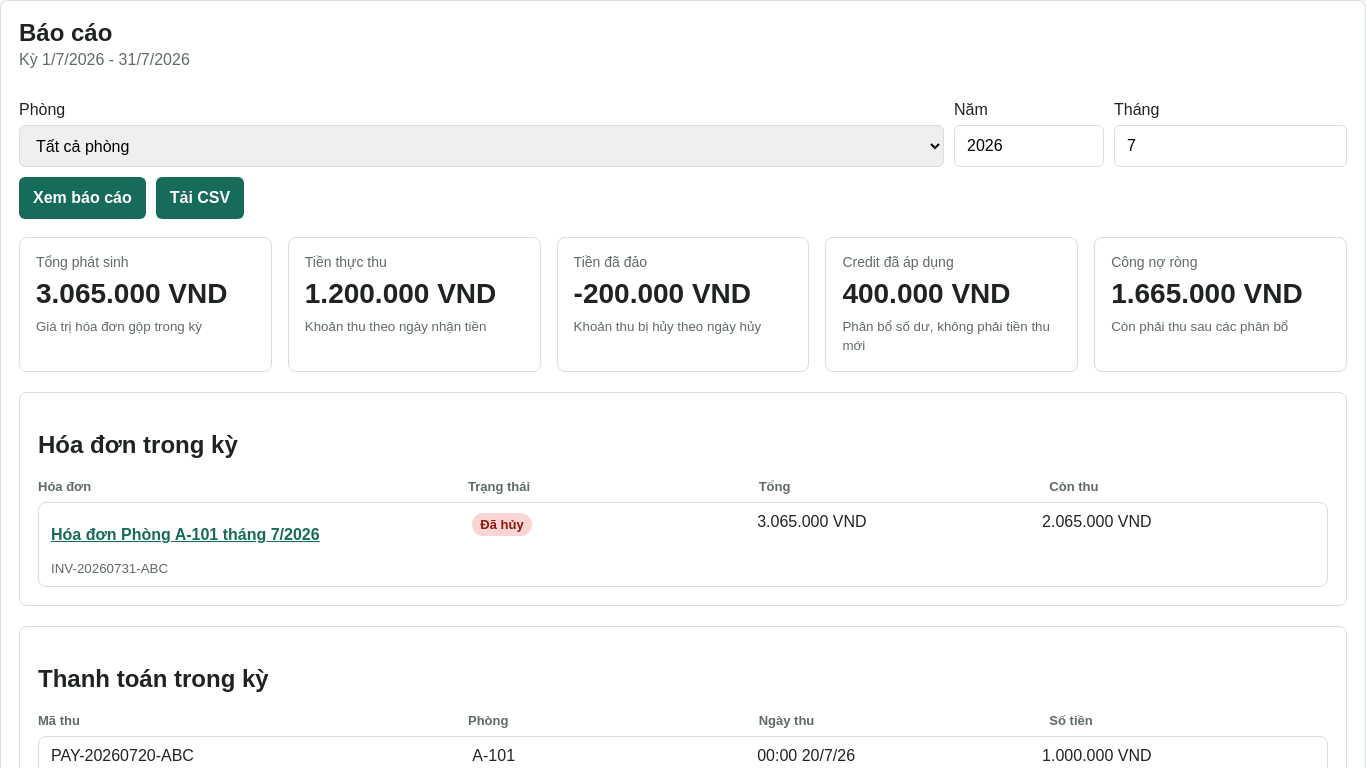
Test: ReportsPage › shows monthly report data and downloads CSV
Expected: the text "Kỳ 1/7/2026 - 31/7/2026" is shown, [19,51,190,69]
Expected: the text "INV-20260731-ABC" is shown, [51,561,168,576]
Select "Phòng A-101" in the dropdown labelled "Phòng" at (482, 146), box [19,125,944,167]
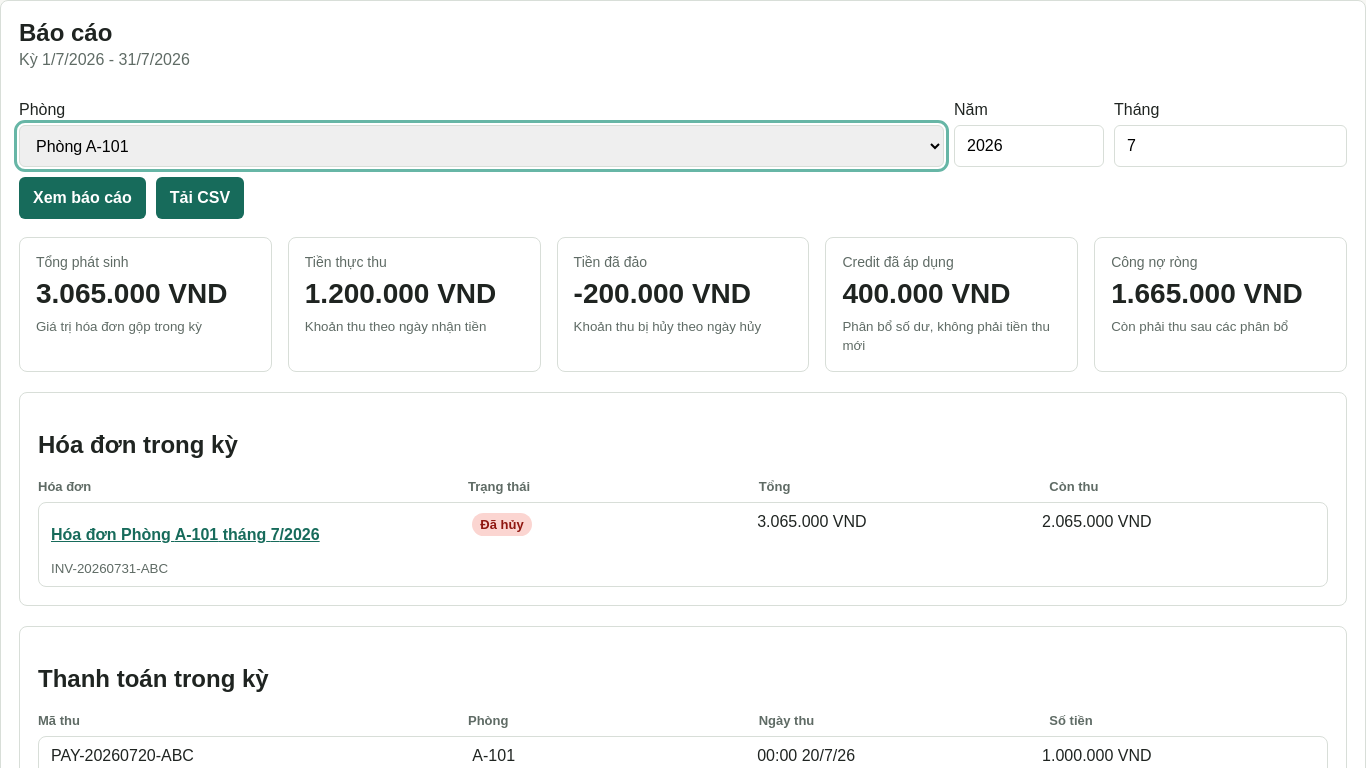
Click the button "Xem báo cáo" at (82, 198), box [19,177,146,219]
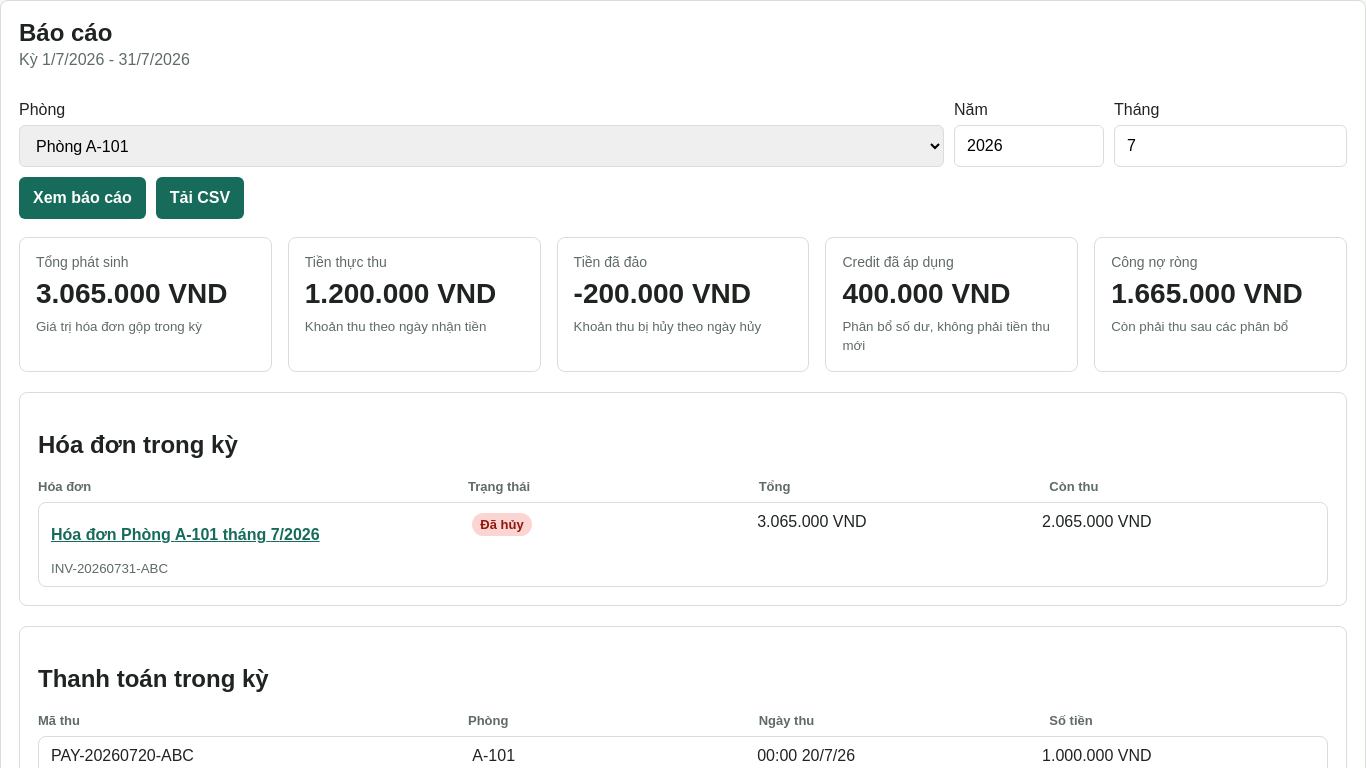
Click the button "Tải CSV" at (200, 198), box [156,177,244,219]
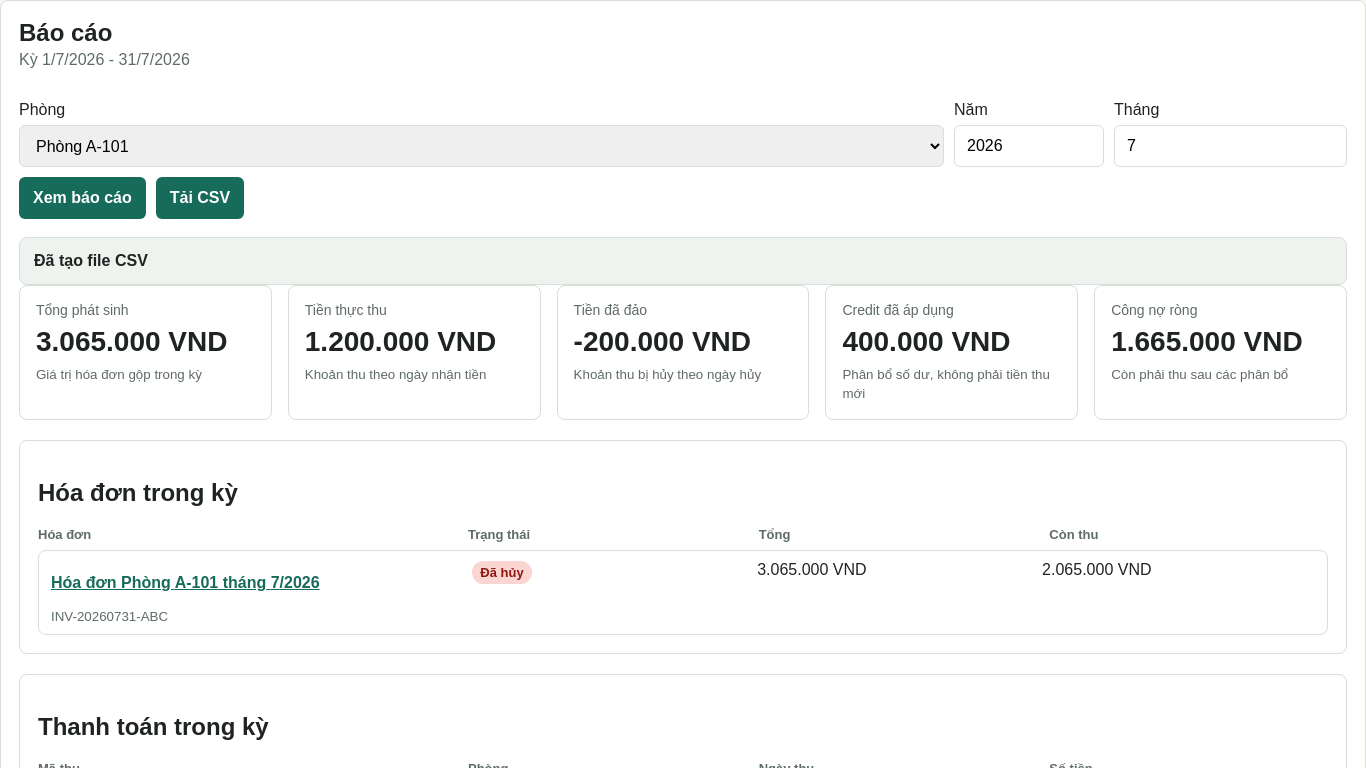
Result: the text "Đã tạo file CSV" is shown at [34,252,148,270]
